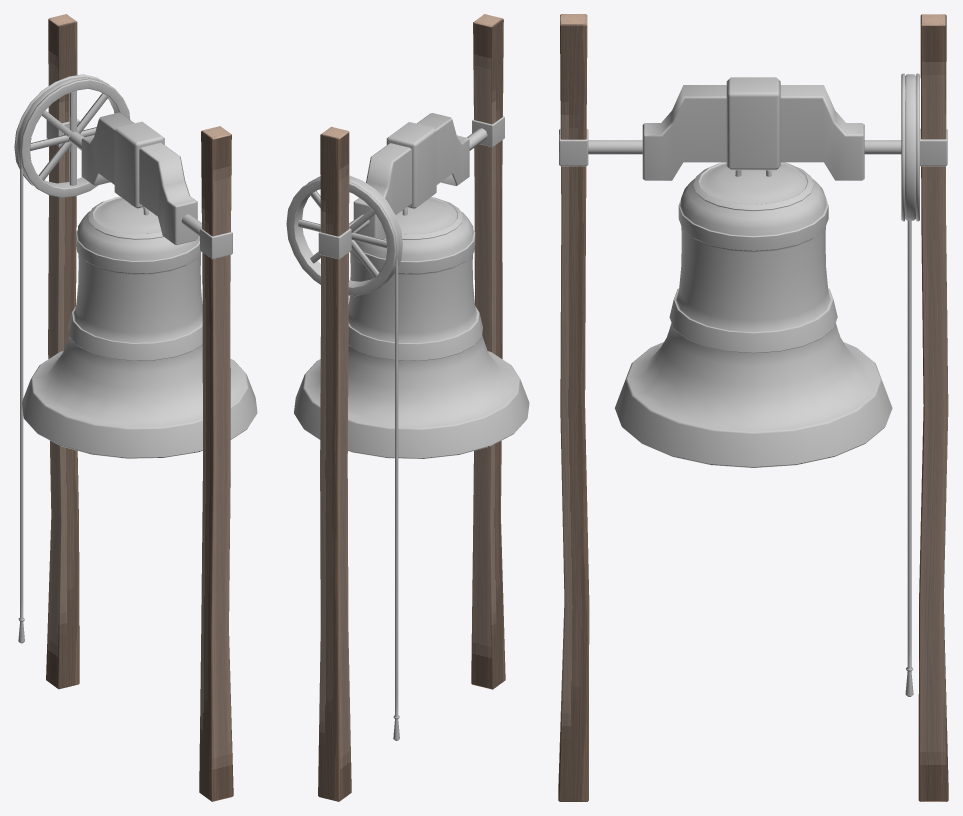
File: SM_BellLargeGrp.fbx
3 renders of one model, left to right at view 1: azimuth 30°, elevation 25°; view 2: azimuth 150°, elevation 25°; view 3: azimuth 270°, elevation 25°, orthographic. The views are drawn at different scales.
Visible parts, largest first — view 1: SM_BellLargeGrp_LOD0; view 2: SM_BellLargeGrp_LOD0; view 3: SM_BellLargeGrp_LOD0.
Boxes of the visible parts, <box> form: SM_BellLargeGrp_LOD0: <box>14,14,257,801</box>; SM_BellLargeGrp_LOD0: <box>286,14,529,801</box>; SM_BellLargeGrp_LOD0: <box>558,14,948,801</box>.
Bounding box in the file's own units: 324 × 455 × 1000.
